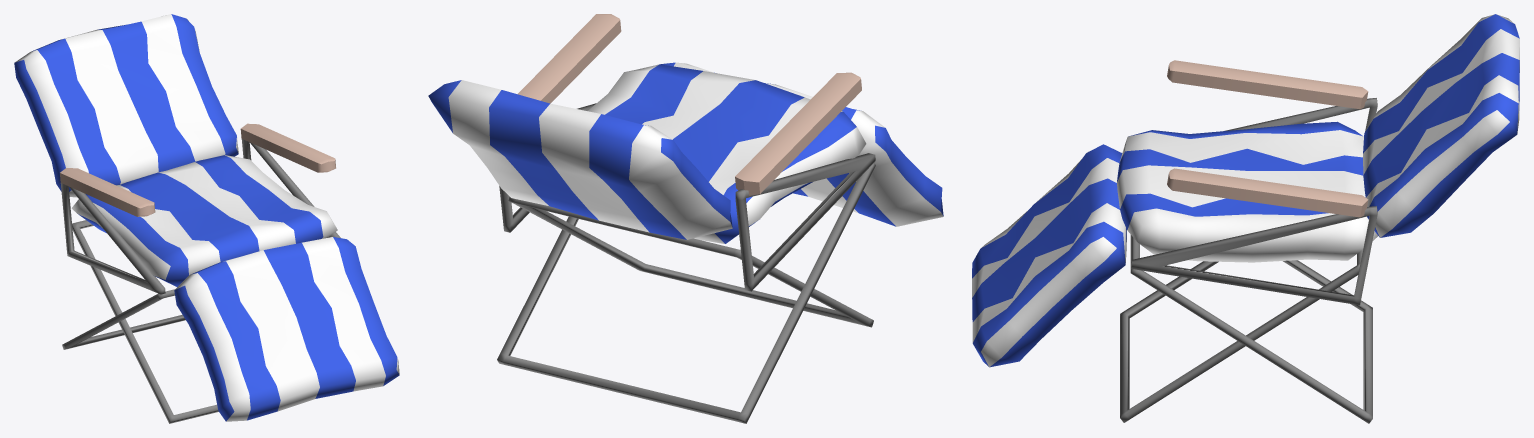
Rendered from Sunbed001.FBX.
The picture shows the model from 3 angles, left to right: view 1: azimuth 30°, elevation 25°; view 2: azimuth 150°, elevation 25°; view 3: azimuth 270°, elevation 25°; orthographic projection. The views are drawn at different scales.
Visible parts, largest first — view 1: Box008; view 2: Box008; view 3: Box008.
Boxes of the visible parts, x1=… form: Box008: x1=14, y1=14, x2=399, y2=423; Box008: x1=428, y1=14, x2=943, y2=423; Box008: x1=972, y1=14, x2=1519, y2=423.
Bounding box in the file's own units: 8.25 × 10.33 × 16.04.
